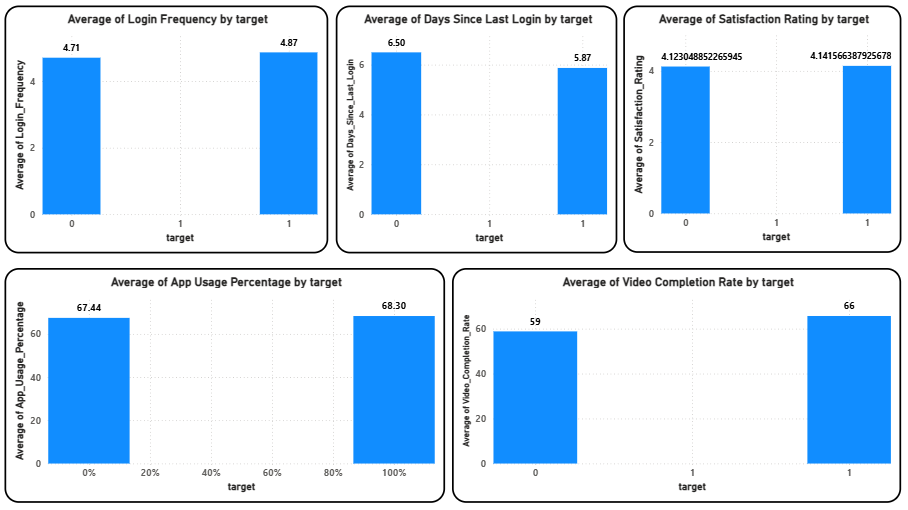

Layout of this report page (visuals, bound fields, positions):
{"tool":"powerbi","page":{"name":"User Behavior Analysis","canvas":[1280,720],"ordinal":3},"visuals":[{"type":"clusteredColumnChart","title":"Average of Login Frequency by target","fields":{"Category":["final_data.target"],"Y":["Avg(final_data.Login_Frequency)"]},"box":[10,11.2,454,348.3],"z":0},{"type":"clusteredColumnChart","title":"Average of App Usage Percentage by target","fields":{"Category":["final_data.target"],"Y":["Avg(final_data.App_Usage_Percentage)"]},"box":[10,379.4,618.2,329.6],"z":1000},{"type":"clusteredColumnChart","title":"Average of Satisfaction Rating by target","fields":{"Y":["Avg(final_data.Satisfaction_Rating)"],"Category":["final_data.target"]},"box":[879.5,11.2,390.6,347.1],"z":2000},{"type":"clusteredColumnChart","title":"Average of Video Completion Rate by target","fields":{"Y":["Avg(final_data.Video_Completion_Rate)"],"Category":["final_data.target"]},"box":[639.4,379.4,630.7,329.6],"z":3000},{"type":"clusteredColumnChart","title":"Average of Days Since Last Login by target","fields":{"Category":["final_data.target"],"Y":["Avg(final_data.Days_Since_Last_Login)"]},"box":[475.2,11.2,395.6,348.3],"z":4000}]}

Visuals, with their boxes in screenshot pixels (x1, y1, x2, y2), scaled from the page's 1280x720 canvas onto the 908x510 screenshot:
"Average of Login Frequency by target" clusteredColumnChart: box=[7, 8, 329, 255]
"Average of App Usage Percentage by target" clusteredColumnChart: box=[7, 269, 446, 502]
"Average of Satisfaction Rating by target" clusteredColumnChart: box=[624, 8, 901, 254]
"Average of Video Completion Rate by target" clusteredColumnChart: box=[454, 269, 901, 502]
"Average of Days Since Last Login by target" clusteredColumnChart: box=[337, 8, 618, 255]
